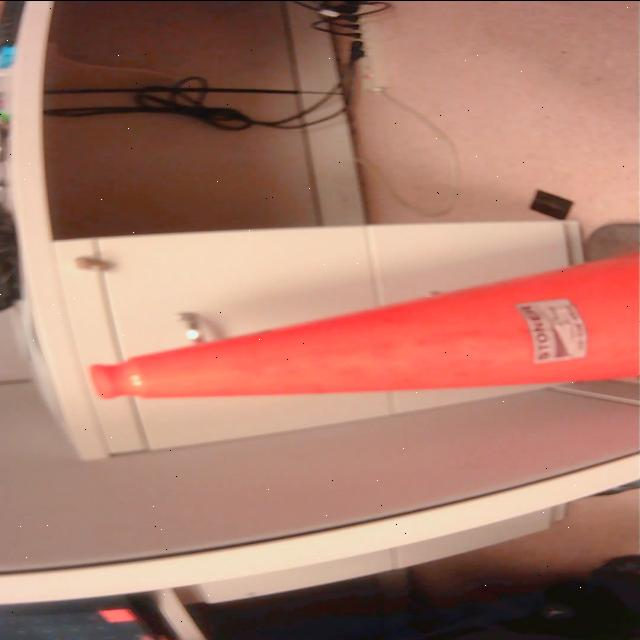traffic cone: (81, 217, 640, 409)
